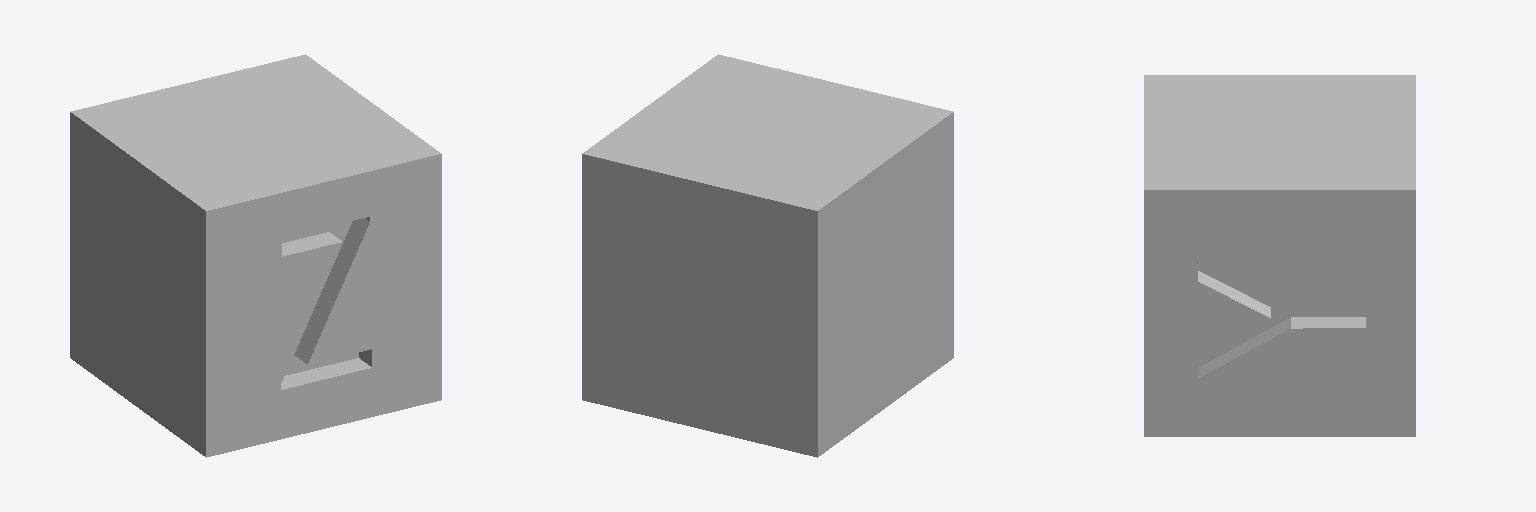
Rendered from xyz_calibration_cube.obj.
3 views of the same model, side by side, from view 1: azimuth 30°, elevation 25°; view 2: azimuth 150°, elevation 25°; view 3: azimuth 270°, elevation 25° (orthographic).
Parts seen in each view (by area): view 1: 0obj; view 2: 0obj; view 3: 0obj.
Part boxes in pixels (left/top/right/bottom): 0obj: left=70, top=54, right=441, bottom=457; 0obj: left=582, top=54, right=953, bottom=457; 0obj: left=1144, top=75, right=1415, bottom=436.
Size of the model in its own units: 20 by 20 by 20.